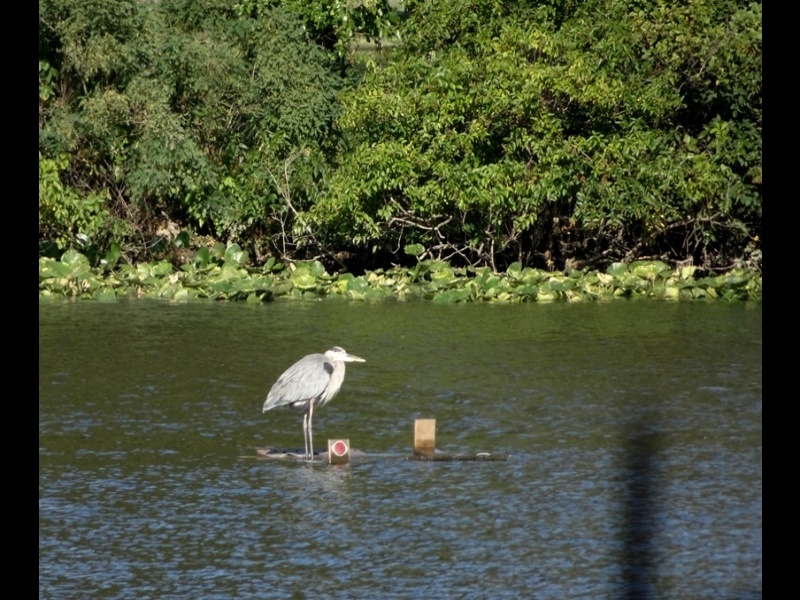heron: (260, 343, 367, 457)
